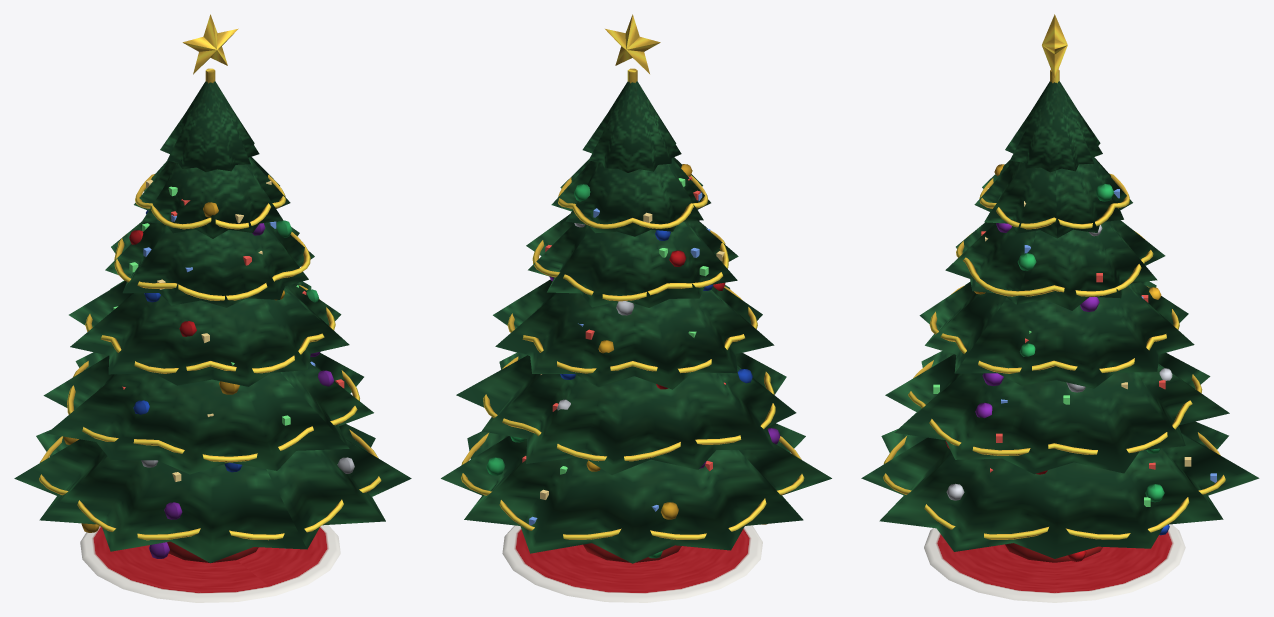
Rendered from cmastree.obj.
3 views of the same model, side by side, from view 1: azimuth 30°, elevation 25°; view 2: azimuth 150°, elevation 25°; view 3: azimuth 270°, elevation 25° (orthographic).
Visible parts, largest first — view 1: cmastree; view 2: cmastree; view 3: cmastree.
Part boxes in pixels (<box>): cmastree: <box>14,14,411,602</box>; cmastree: <box>441,14,831,602</box>; cmastree: <box>861,14,1259,602</box>.
Bounding box in the file's own units: 1.48 × 2.25 × 1.52.
